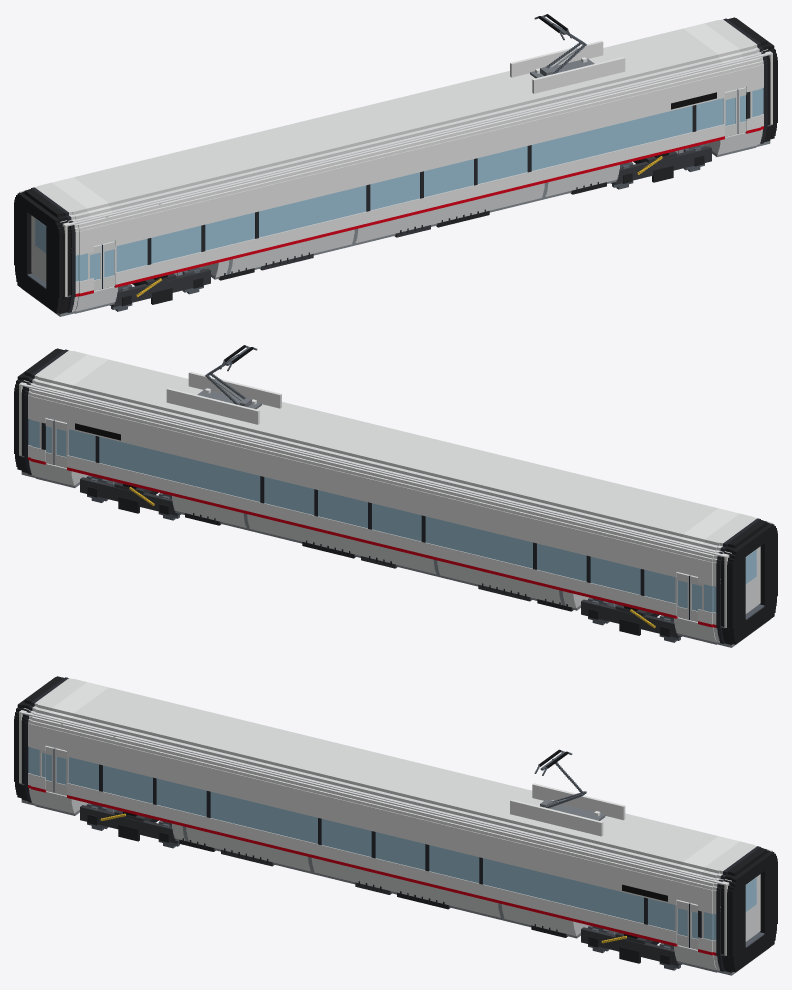
The model's file is ice3_car.obj.
3 views of the same model, one above another, from view 1: azimuth 30°, elevation 25°; view 2: azimuth 150°, elevation 25°; view 3: azimuth 330°, elevation 25° (orthographic).
Visible parts, largest first — view 1: SHELL, SHELL_diaphragm, SHELL_pantograph, SHELL_ceiling, BOGEY_REAR, BOGEY_FRONT, FRAME, CONNECTING_DOOR_1_CG_CR_TOGGLE_TL_0.98_Z, EXTERNAL_DOOR_10_CG_DR2_TOGGLE_TL_-0.44_X, SHELL_end, EXTERNAL_DOOR_5_CG_DR1_TOGGLE_TL_0.44_X; view 2: SHELL, SHELL_diaphragm, SHELL_pantograph, SHELL_ceiling, BOGEY_REAR, BOGEY_FRONT, FRAME, CONNECTING_DOOR_1_CG_CR_TOGGLE_TL_0.98_Z, EXTERNAL_DOOR_13_CG_DL2_TOGGLE_TL_-0.44_X, SHELL_end, EXTERNAL_DOOR_8_CG_DL1_TOGGLE_TL_0.44_X; view 3: SHELL, SHELL_diaphragm, SHELL_pantograph, SHELL_ceiling, BOGEY_FRONT, BOGEY_REAR, FRAME, CONNECTING_DOOR_2_CG_CF_TOGGLE_TL_0.98_Z, EXTERNAL_DOOR_10_CG_DR2_TOGGLE_TL_-0.44_X, EXTERNAL_DOOR_5_CG_DR1_TOGGLE_TL_0.44_X, SHELL_end, EXTERNAL_DOOR_4_CG_DR1_TOGGLE_TL_-0.44_X.
Boxes of the visible parts, <box> form: SHELL: <box>22,17,773,316</box>; SHELL_diaphragm: <box>14,18,777,313</box>; SHELL_pantograph: <box>510,14,625,93</box>; SHELL_ceiling: <box>21,50,771,226</box>; BOGEY_REAR: <box>111,268,210,307</box>; BOGEY_FRONT: <box>612,146,711,184</box>; FRAME: <box>218,182,606,280</box>; CONNECTING_DOOR_1_CG_CR_TOGGLE_TL_0.98_Z: <box>33,217,46,282</box>; EXTERNAL_DOOR_10_CG_DR2_TOGGLE_TL_-0.44_X: <box>723,89,738,136</box>; SHELL_end: <box>19,49,772,296</box>; EXTERNAL_DOOR_5_CG_DR1_TOGGLE_TL_0.44_X: <box>102,241,116,288</box>; SHELL: <box>18,348,769,647</box>; SHELL_diaphragm: <box>14,349,777,644</box>; SHELL_pantograph: <box>166,345,281,424</box>; SHELL_ceiling: <box>20,381,770,557</box>; BOGEY_REAR: <box>581,599,680,638</box>; BOGEY_FRONT: <box>80,477,179,515</box>; FRAME: <box>185,513,573,611</box>; CONNECTING_DOOR_1_CG_CR_TOGGLE_TL_0.98_Z: <box>745,548,758,613</box>; EXTERNAL_DOOR_13_CG_DL2_TOGGLE_TL_-0.44_X: <box>53,420,68,467</box>; SHELL_end: <box>19,380,772,627</box>; EXTERNAL_DOOR_8_CG_DL1_TOGGLE_TL_0.44_X: <box>675,572,689,619</box>; SHELL: <box>18,676,769,975</box>; SHELL_diaphragm: <box>14,677,777,972</box>; SHELL_pantograph: <box>510,749,625,836</box>; SHELL_ceiling: <box>20,708,770,884</box>; BOGEY_FRONT: <box>581,927,680,965</box>; BOGEY_REAR: <box>80,805,179,843</box>; FRAME: <box>179,838,567,937</box>; CONNECTING_DOOR_2_CG_CF_TOGGLE_TL_0.98_Z: <box>745,876,758,941</box>; EXTERNAL_DOOR_10_CG_DR2_TOGGLE_TL_-0.44_X: <box>675,900,690,947</box>; EXTERNAL_DOOR_5_CG_DR1_TOGGLE_TL_0.44_X: <box>54,748,68,795</box>; SHELL_end: <box>19,708,772,955</box>; EXTERNAL_DOOR_4_CG_DR1_TOGGLE_TL_-0.44_X: <box>39,746,55,792</box>.
Size of the model in its own units: 25.12 by 5.68 by 2.97.
Materials: 1 (1 with a texture image).
